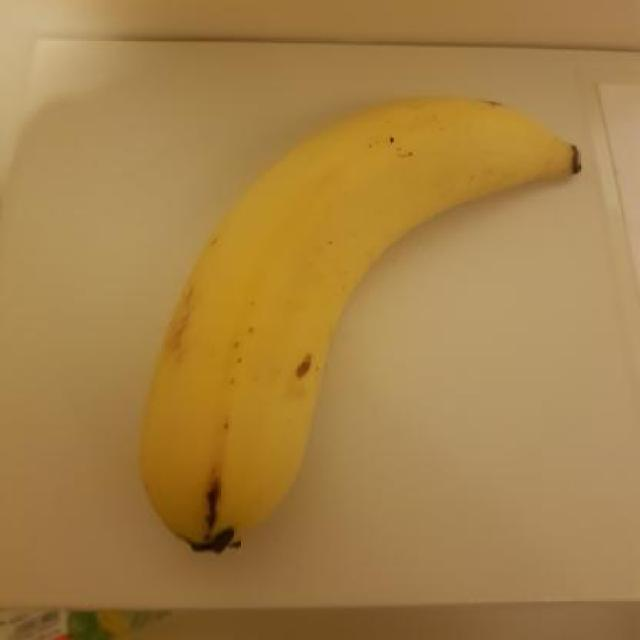banana: (124, 90, 587, 558)
